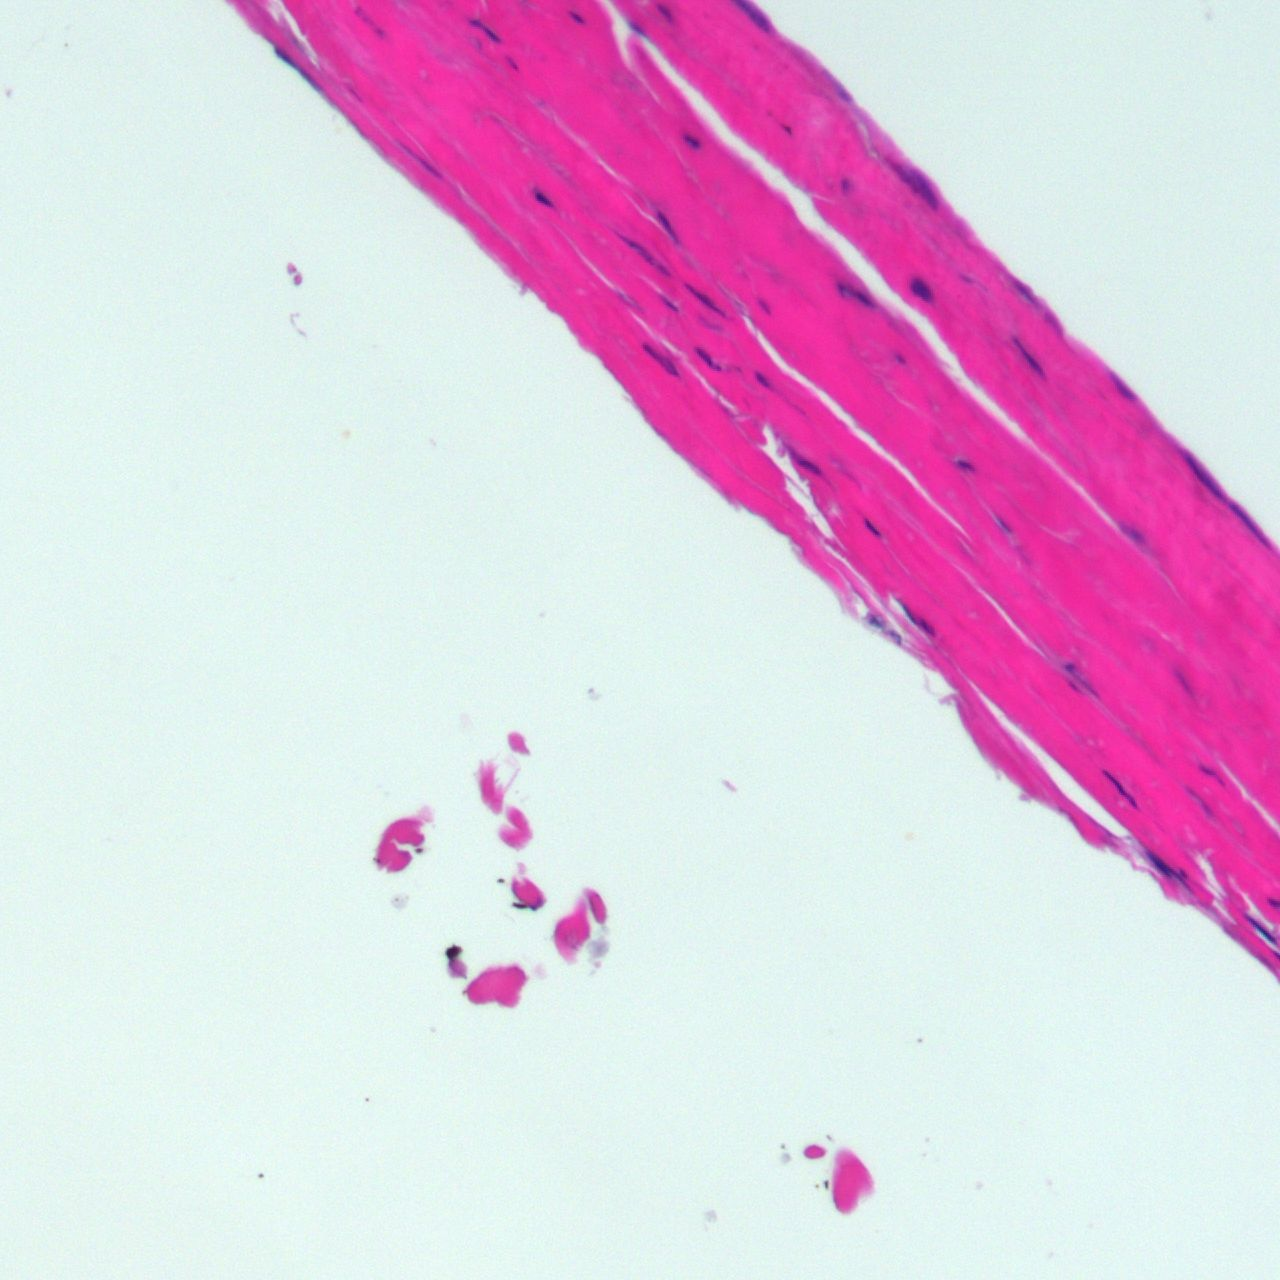dust: (442, 945, 465, 960), (512, 903, 527, 910), (415, 846, 424, 855), (497, 877, 506, 884), (823, 1179, 830, 1189)
nucleus-HE: (879, 148, 949, 213), (832, 244, 897, 313), (268, 39, 321, 91), (618, 229, 672, 280), (1180, 449, 1228, 506), (1227, 501, 1273, 549), (399, 141, 444, 181), (640, 339, 682, 381), (681, 280, 728, 318), (1101, 768, 1141, 810), (731, 0, 777, 36), (1061, 658, 1099, 700), (1009, 333, 1046, 377), (467, 14, 505, 52), (649, 206, 683, 248), (1182, 781, 1217, 819), (1242, 914, 1280, 946), (904, 274, 938, 308), (1116, 520, 1151, 550), (1143, 849, 1175, 879), (1171, 865, 1201, 897), (1107, 372, 1136, 402), (795, 454, 828, 479), (692, 342, 719, 372), (527, 185, 554, 213), (678, 127, 704, 154), (858, 515, 885, 540), (658, 291, 681, 316), (1194, 758, 1219, 781), (896, 598, 917, 624), (751, 368, 774, 392), (626, 18, 648, 39), (565, 7, 587, 27), (951, 457, 975, 472), (839, 176, 855, 198), (918, 618, 934, 636), (888, 629, 901, 646), (893, 350, 907, 365), (869, 615, 883, 628)
